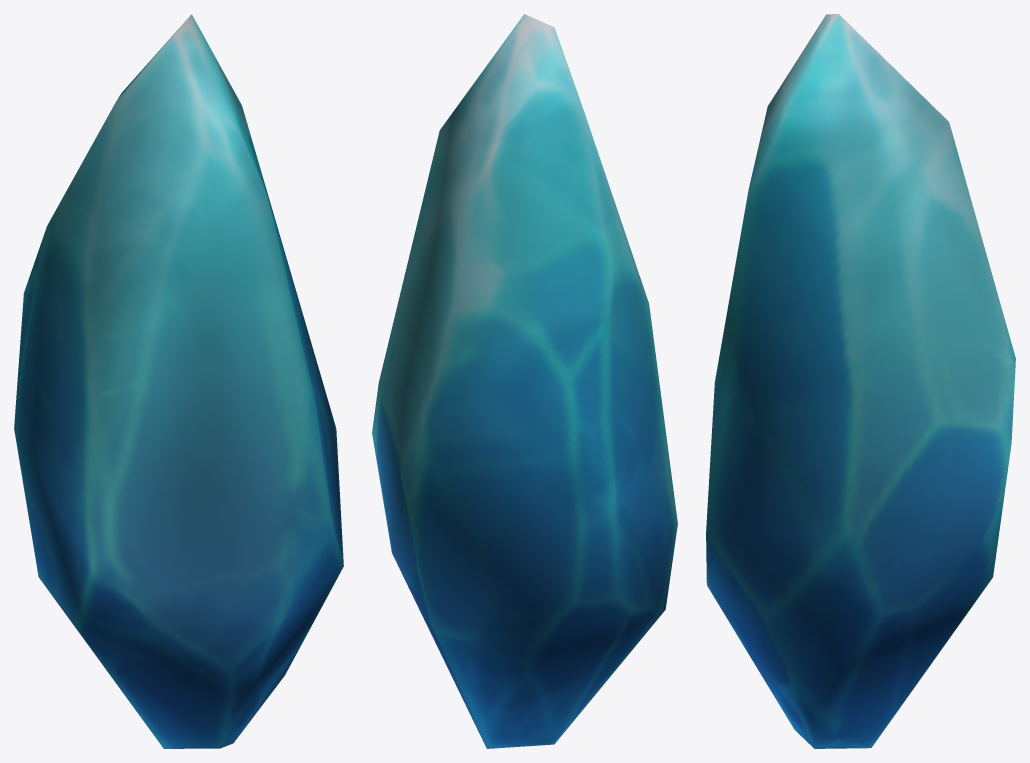
The model's file is SM_Gem_IceCrystal_Piece_002.fbx.
3 renders of one model, left to right at view 1: azimuth 30°, elevation 25°; view 2: azimuth 150°, elevation 25°; view 3: azimuth 270°, elevation 25°, orthographic.
Parts seen in each view (by area): view 1: SM_Gem_IceCrystal_Piece_002; view 2: SM_Gem_IceCrystal_Piece_002; view 3: SM_Gem_IceCrystal_Piece_002.
Boxes of the visible parts, x1,y1,x2,y2 form: SM_Gem_IceCrystal_Piece_002: [14, 14, 343, 748]; SM_Gem_IceCrystal_Piece_002: [372, 14, 677, 748]; SM_Gem_IceCrystal_Piece_002: [706, 14, 1015, 748].
Size of the model in its own units: 9.84 by 24.34 by 9.44.
